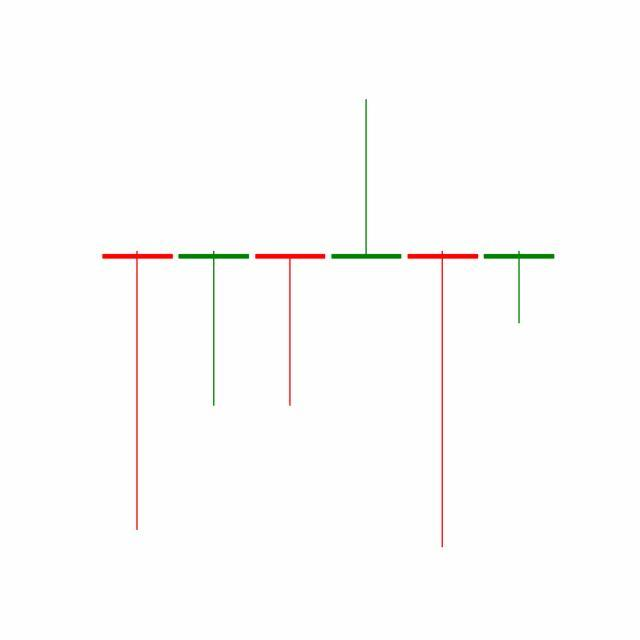Dragonfly Doji: (404, 248, 482, 552)
